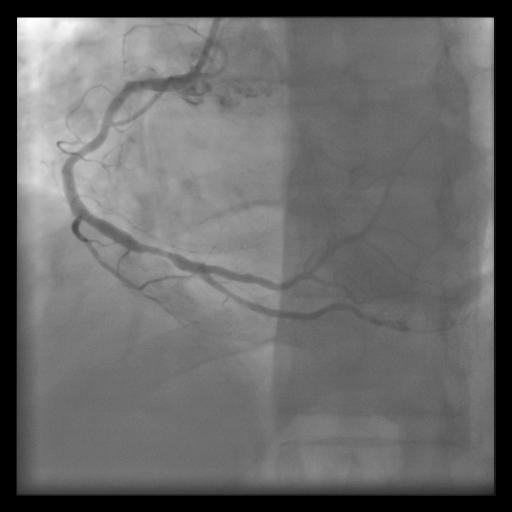Stenosis: (136, 236, 174, 264)
